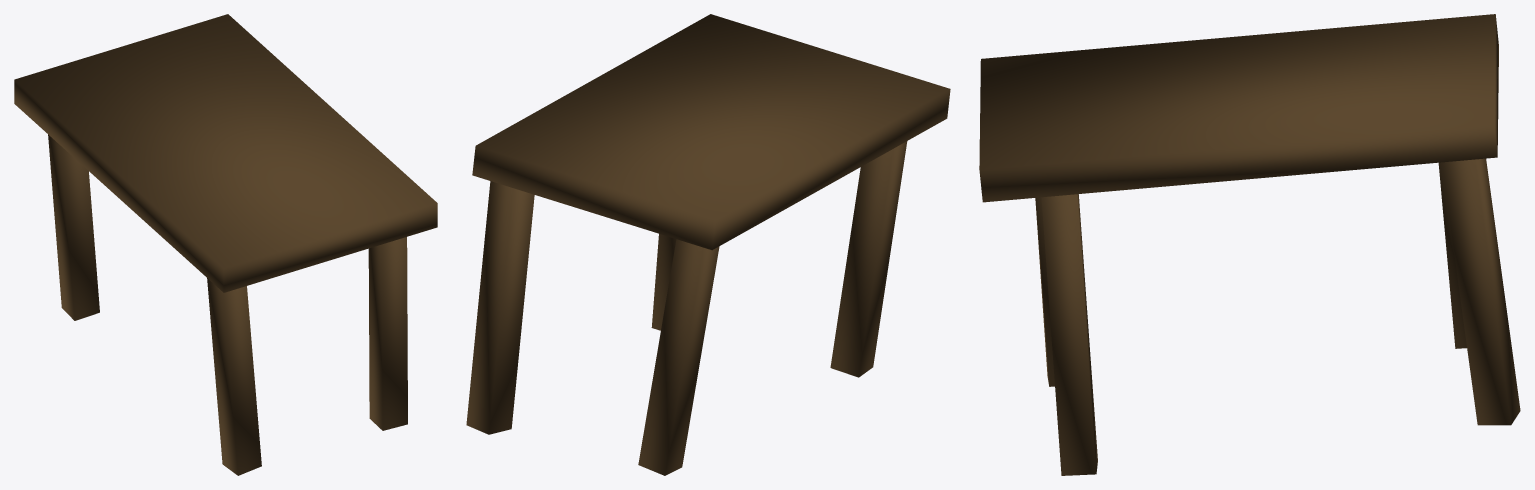
File: myAsset_endmexyz.fbx
The picture shows the model from 3 angles, left to right: view 1: azimuth 30°, elevation 25°; view 2: azimuth 150°, elevation 25°; view 3: azimuth 270°, elevation 25°; orthographic projection. The views are drawn at different scales.
Parts seen in each view (by area): view 1: p.0012, p.0010, p.0008, p.0011; view 2: p.0012, p.0009, p.0011, p.0010, p.0008; view 3: p.0012, p.0009, p.0008, p.0011, p.0010.
Part boxes in pixels (x1=…): p.0012: x1=14, y1=14, x2=437, y2=292; p.0010: x1=207, y1=278, x2=261, y2=475; p.0008: x1=368, y1=237, x2=407, y2=430; p.0011: x1=48, y1=134, x2=99, y2=320; p.0012: x1=472, y1=14, x2=950, y2=250; p.0009: x1=466, y1=181, x2=534, y2=434; p.0011: x1=638, y1=239, x2=719, y2=475; p.0010: x1=830, y1=141, x2=907, y2=377; p.0008: x1=651, y1=234, x2=676, y2=330; p.0012: x1=979, y1=14, x2=1498, y2=202; p.0009: x1=1442, y1=158, x2=1520, y2=425; p.0008: x1=1041, y1=194, x2=1097, y2=475; p.0011: x1=1438, y1=162, x2=1466, y2=348; p.0010: x1=1035, y1=197, x2=1054, y2=386.
Size of the model in its own units: 23.58 by 41.04 by 29.63.
